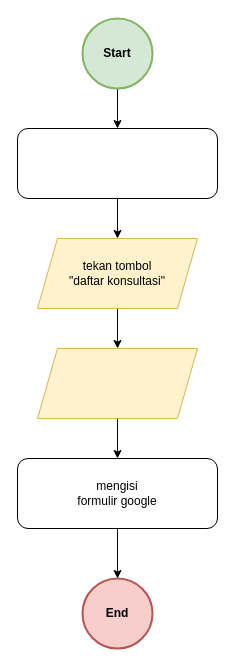
This 235x666 diagram has some shape labels left out. Here are the shapes that lost their labels. From the top down, the box of each, then its label:
(16, 128, 218, 198): berinteraksi dengan tampilan antarmuka landing page
(36, 348, 198, 418): redirect ke link google form
